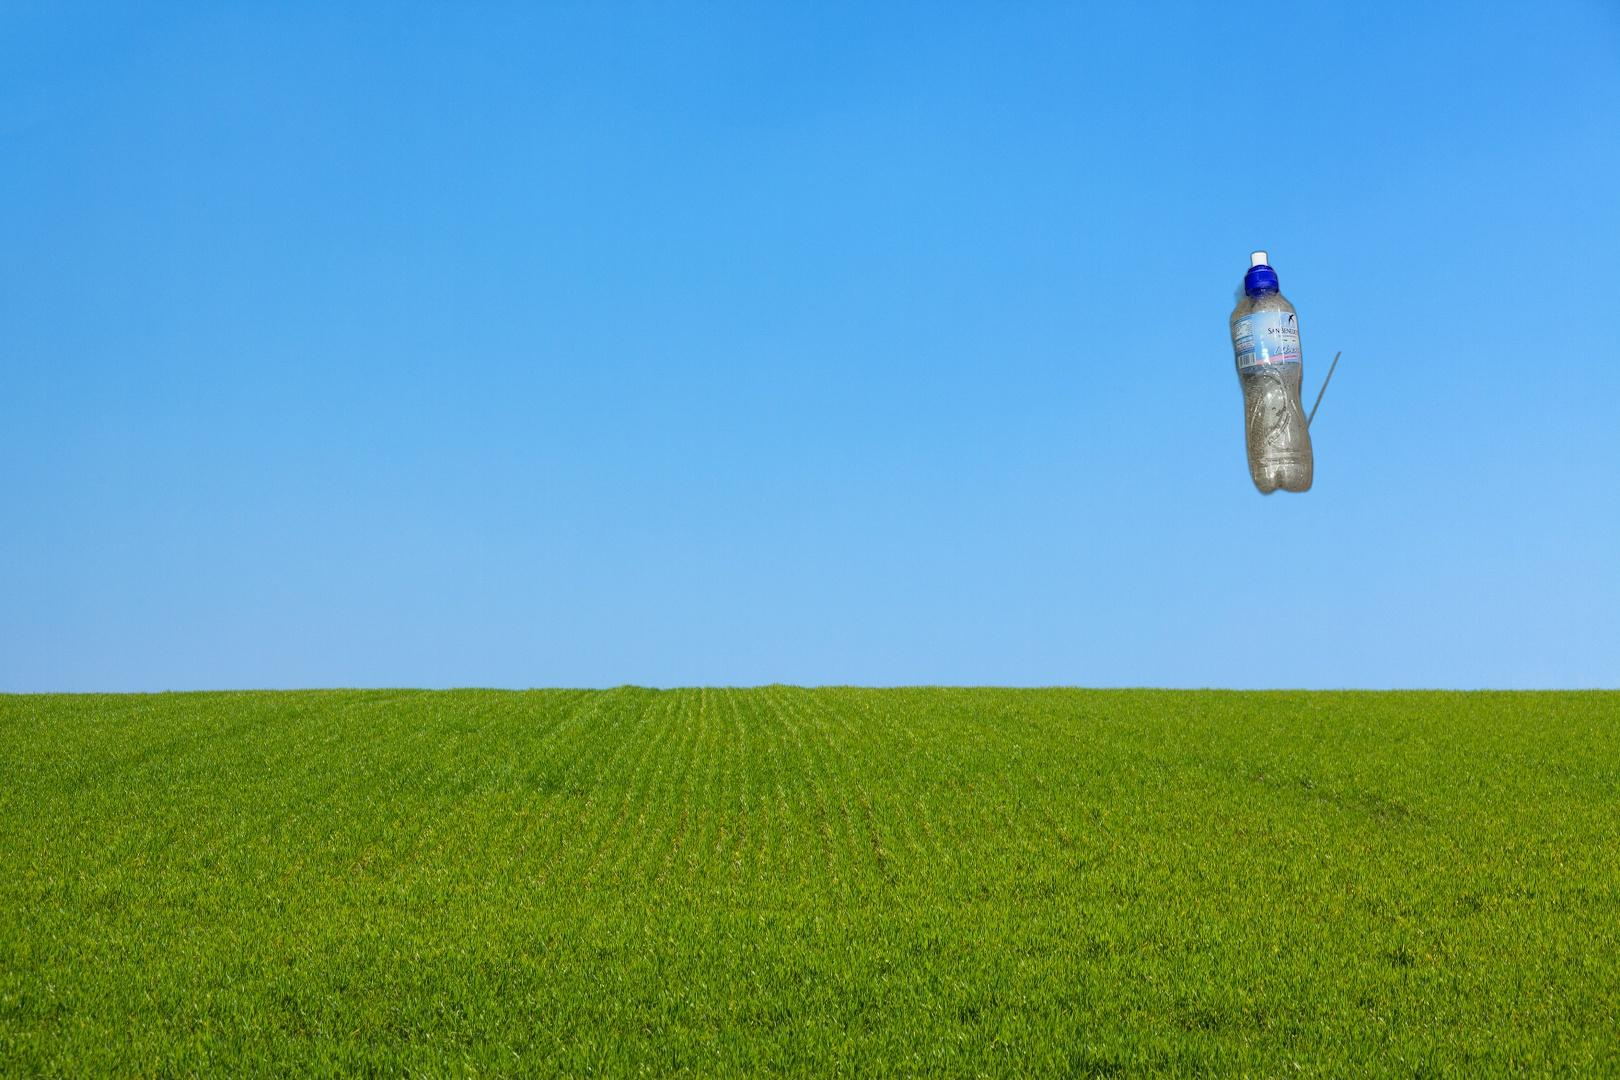plastic-bottles: (1226, 247, 1343, 499)
